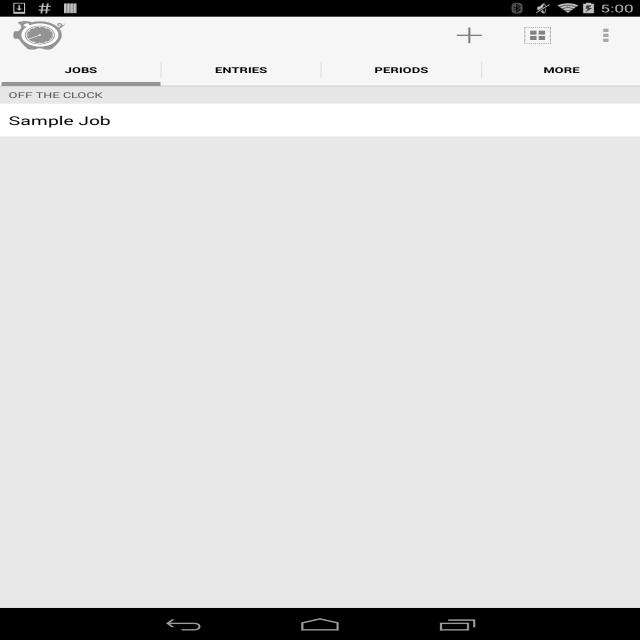ImageButton: (571, 16, 640, 54)
ImageView: (14, 19, 64, 52)
TextView: (0, 105, 640, 136), (435, 17, 504, 54), (503, 17, 572, 54), (8, 90, 103, 100), (374, 64, 428, 76), (215, 64, 267, 76), (543, 64, 580, 76), (65, 64, 97, 76)
